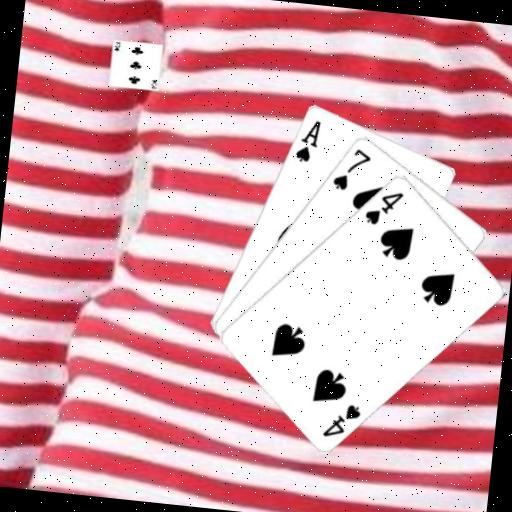4S: (361, 185, 406, 229), (320, 398, 364, 442)
7S: (329, 142, 374, 194)
AS: (291, 115, 323, 165)
